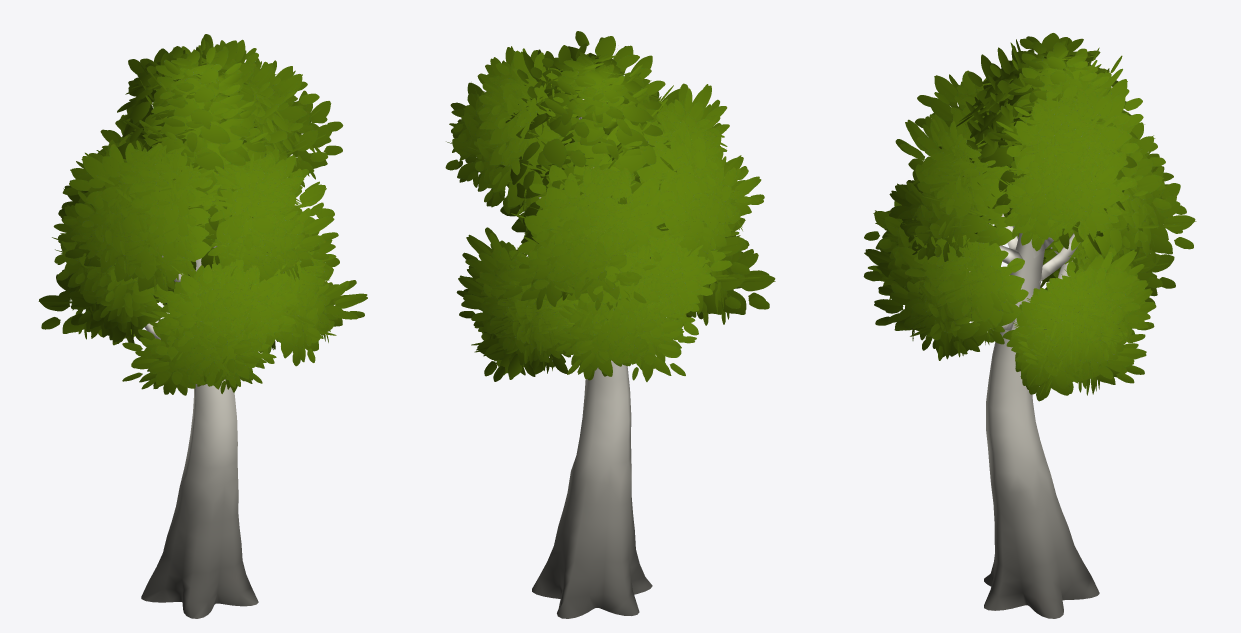
The model's file is tree-health-1-young.glb.
The picture shows the model from 3 angles, left to right: view 1: azimuth 30°, elevation 25°; view 2: azimuth 150°, elevation 25°; view 3: azimuth 270°, elevation 25°; orthographic projection. The views are drawn at different scales.
Visible parts, largest first — view 1: CommonTree_1; view 2: CommonTree_1; view 3: CommonTree_1.
Part boxes in pixels (bbox=[...]): CommonTree_1: bbox=[38, 34, 367, 618]; CommonTree_1: bbox=[445, 31, 775, 618]; CommonTree_1: bbox=[863, 33, 1196, 618].
Bounding box in the file's own units: 1.42 × 2.4 × 1.51.
Materials: 2 (1 with a texture image).
